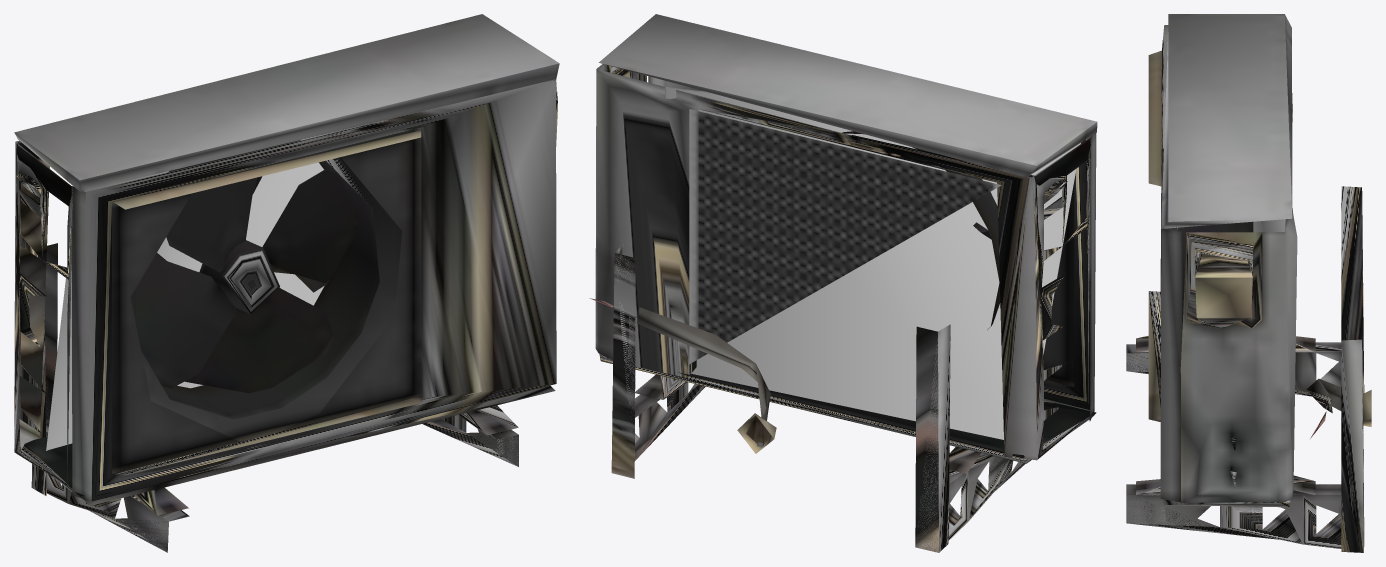
Rendered from ac_unit_lod1.glb.
The picture shows the model from 3 angles, left to right: view 1: azimuth 30°, elevation 25°; view 2: azimuth 150°, elevation 25°; view 3: azimuth 270°, elevation 25°; orthographic projection. The views are drawn at different scales.
Visible parts, largest first — view 1: ac_unit; view 2: ac_unit; view 3: ac_unit.
Boxes of the visible parts, box(x1,y1,x2,y2) form: ac_unit: box(14, 14, 559, 552); ac_unit: box(589, 14, 1097, 552); ac_unit: box(1126, 14, 1371, 552).
Size of the model in its own units: 0.7894 by 0.6028 by 0.3742.
2 materials, 2 textured.
